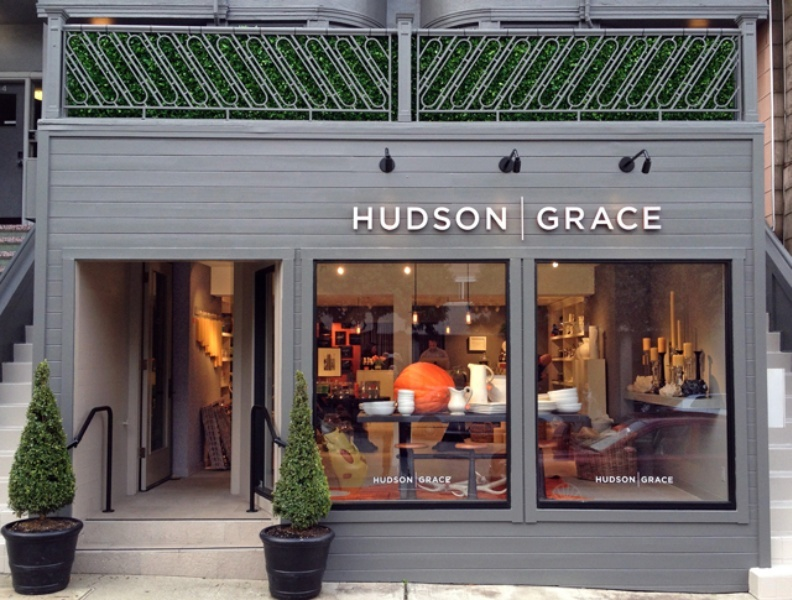text: (545, 205, 560, 232), (561, 205, 576, 232), (577, 205, 592, 232), (593, 205, 608, 232), (609, 205, 624, 232), (625, 205, 640, 232), (641, 205, 656, 232), (353, 205, 368, 231), (369, 205, 384, 231), (385, 205, 400, 231), (401, 205, 416, 231), (417, 205, 432, 231), (433, 205, 448, 231), (449, 205, 464, 231), (465, 205, 480, 231), (481, 205, 496, 231), (497, 205, 508, 231), (538, 205, 544, 232), (657, 205, 663, 232), (385, 476, 400, 484), (657, 476, 672, 484), (642, 476, 656, 484), (433, 476, 448, 483), (609, 476, 624, 483), (418, 476, 432, 483), (401, 476, 413, 484), (373, 476, 384, 484), (596, 476, 608, 483), (625, 476, 635, 483), (449, 476, 451, 483), (673, 476, 674, 484)
